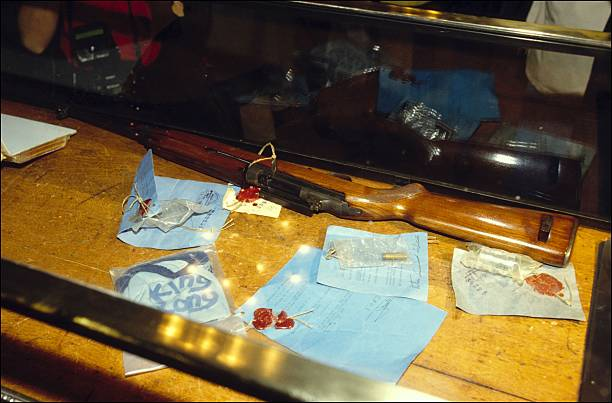shotgun: (45, 86, 584, 278)
